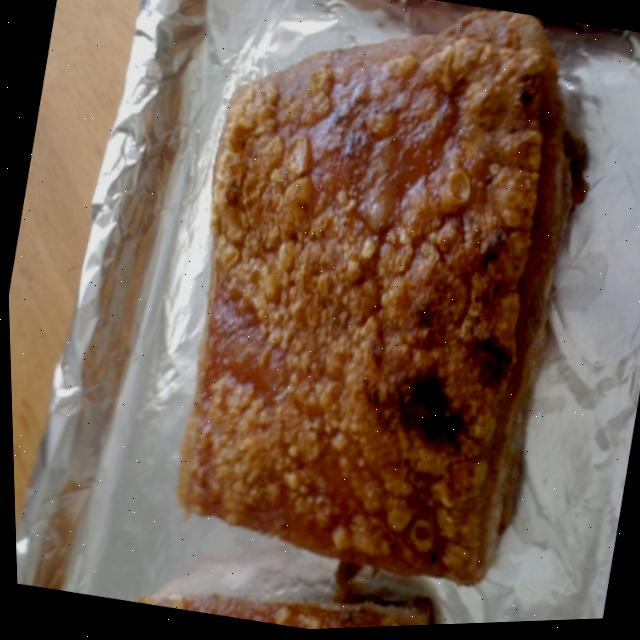牛肉菜式: (113, 0, 624, 623)
